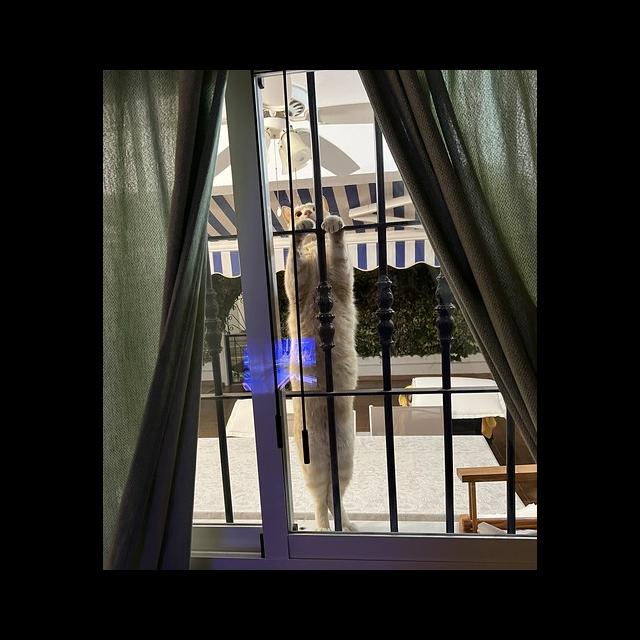animals: (283, 217, 359, 533)
